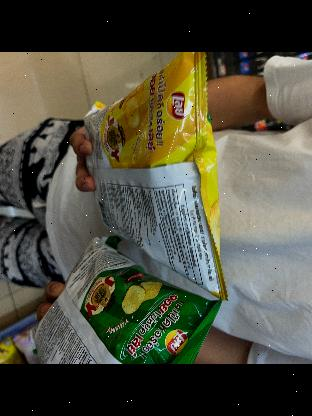Others: (83, 52, 234, 298), (26, 228, 222, 364)
